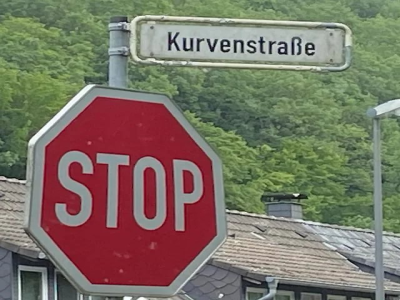stop: (50, 103, 210, 275)
